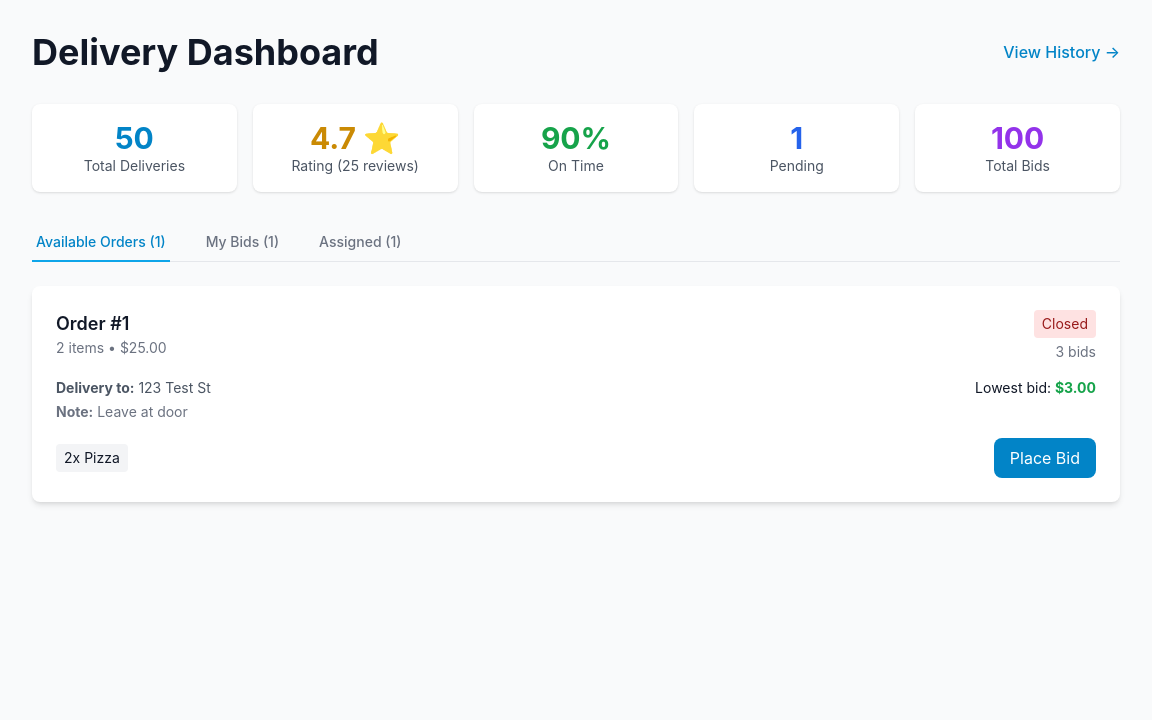
Test: DeliveryDashboard › Available Orders Tab › opens bid modal when clicking Place Bid
Click the button "Place Bid".
click(1045, 458)  # box 994,438 -> 1096,478
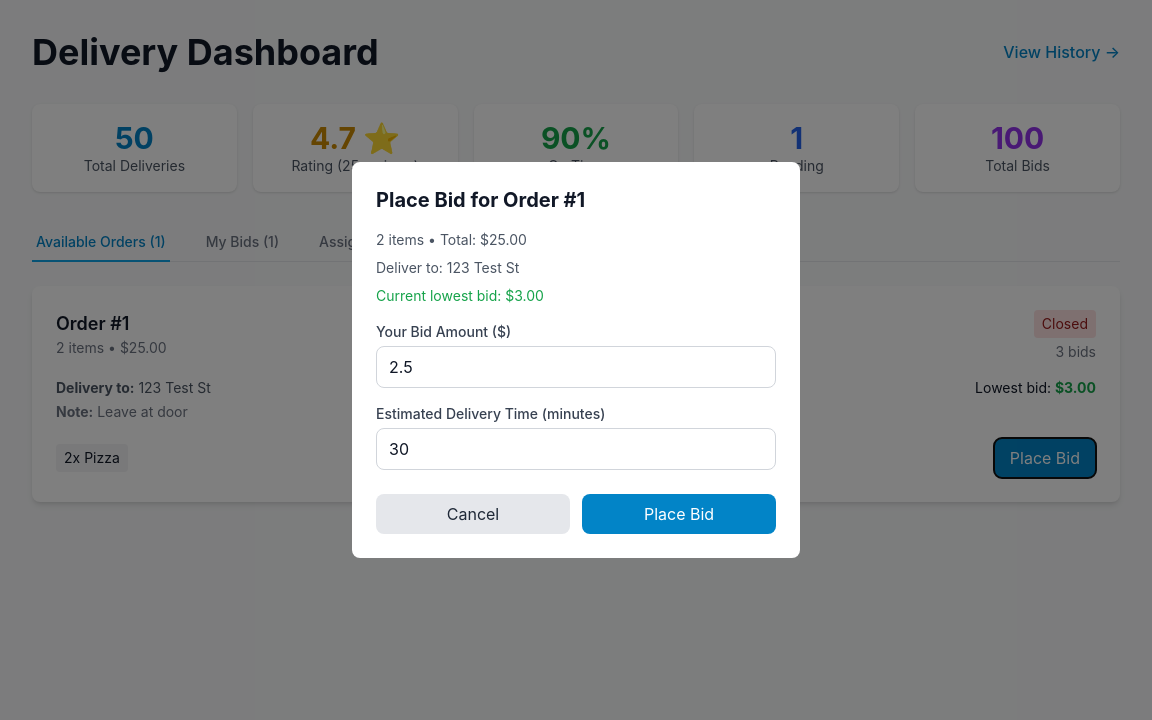
Expected: the heading "Place Bid for Order #1" is shown, 376,188 -> 585,212
Expected: the text "Your Bid Amount ($)" is shown, 376,323 -> 511,340
